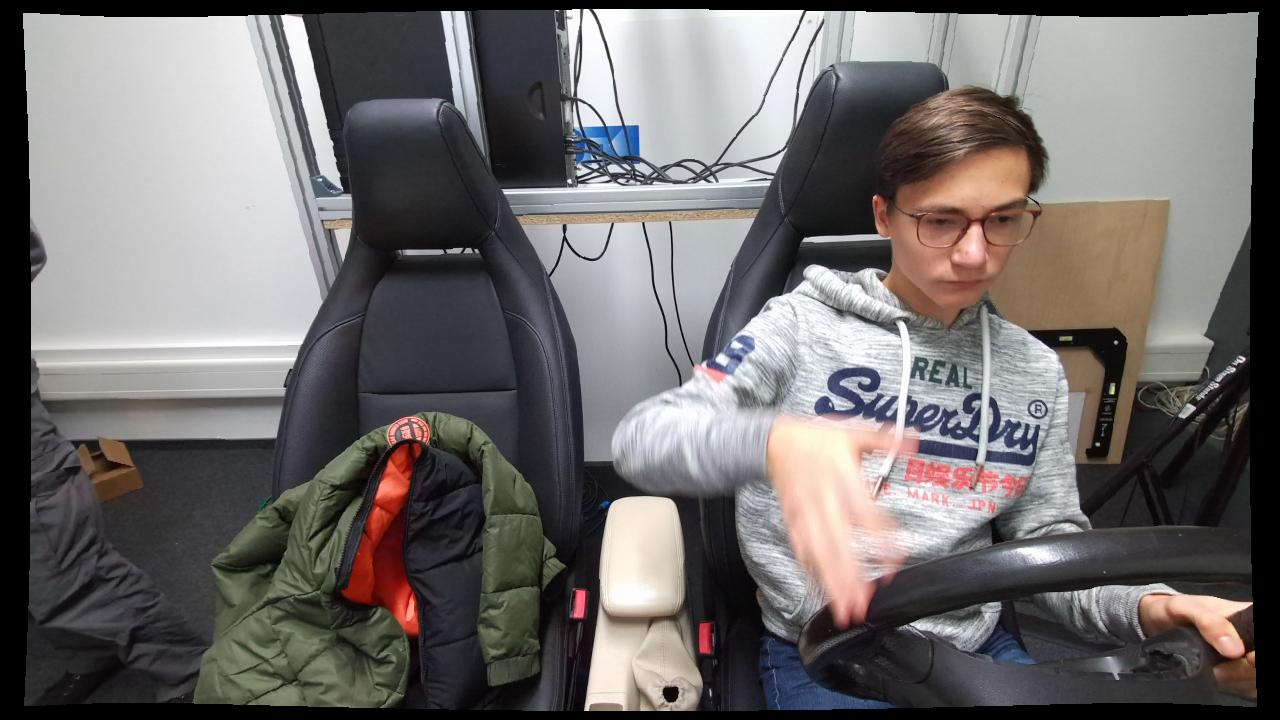Distracted: (609, 84, 1137, 708)
